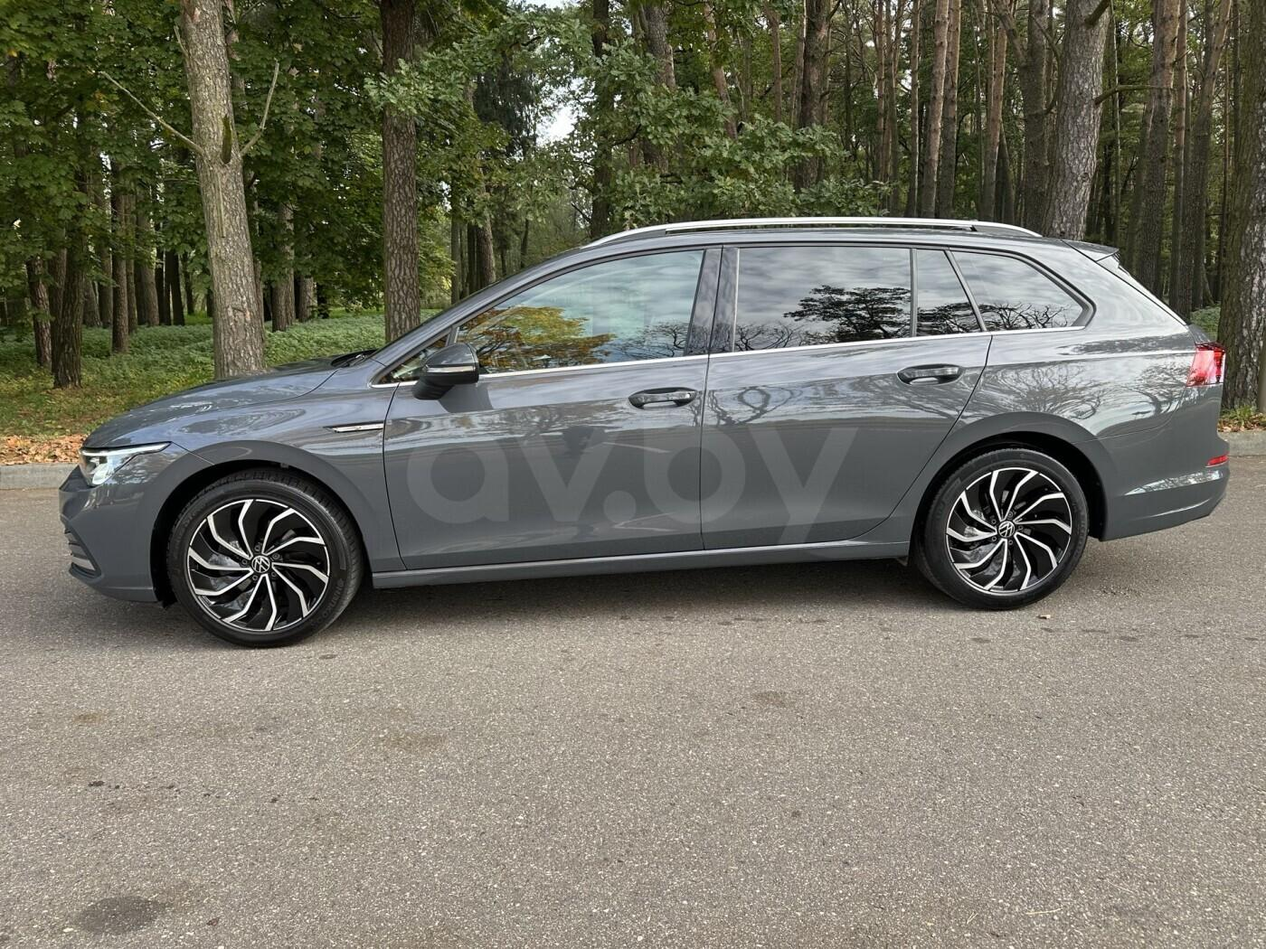Golf_2019: (47, 219, 1234, 643)
